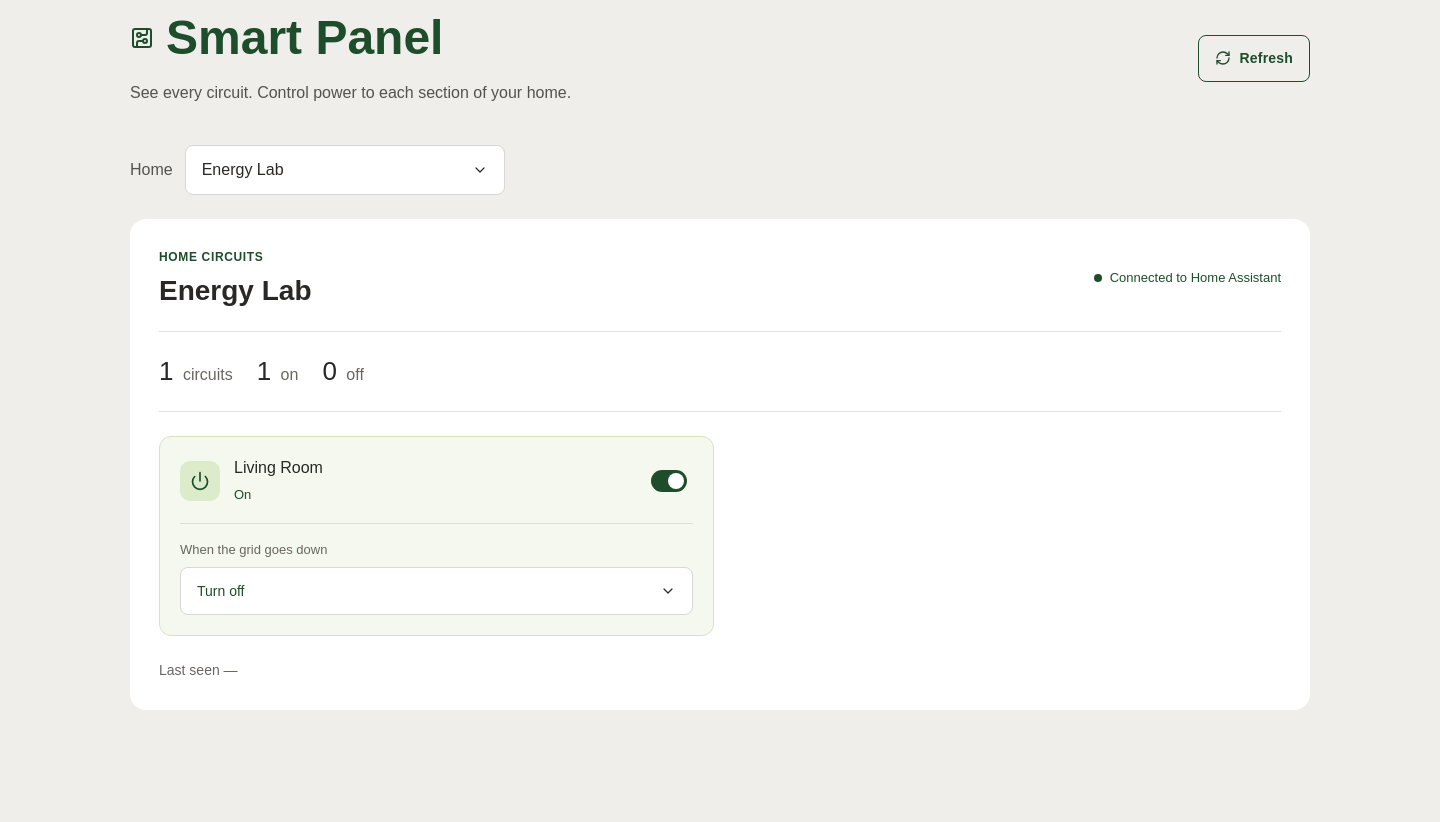
shows an empty panel and supports switching homes
Select "Other home" in the dropdown named "Selected home" at (345, 170), box [185,145,505,195]
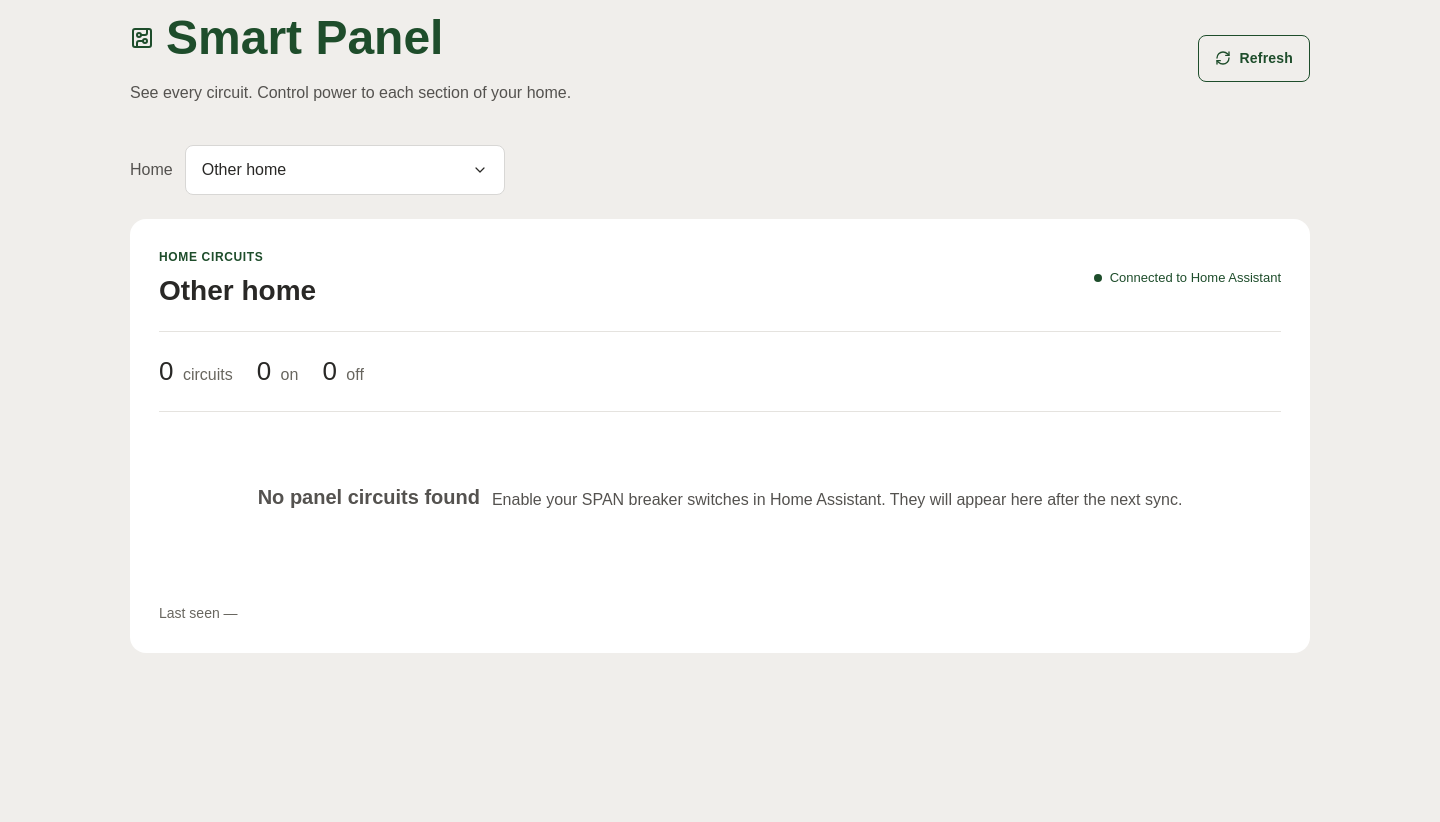
Expected: the heading "No panel circuits found" is shown, [258,484,480,511]
Expected: the switch is gone
